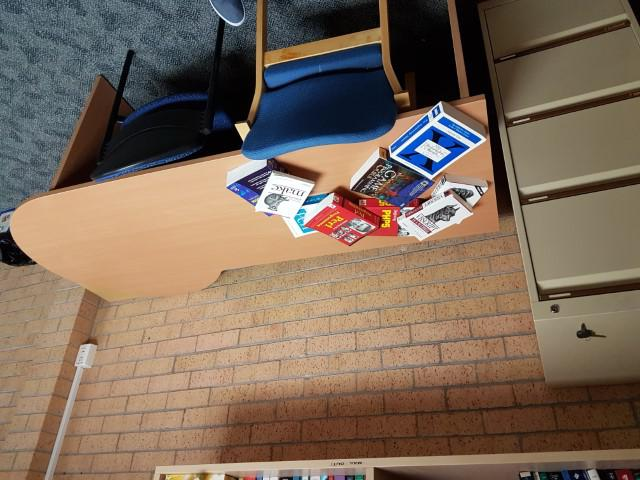key: (576, 329, 607, 339)
